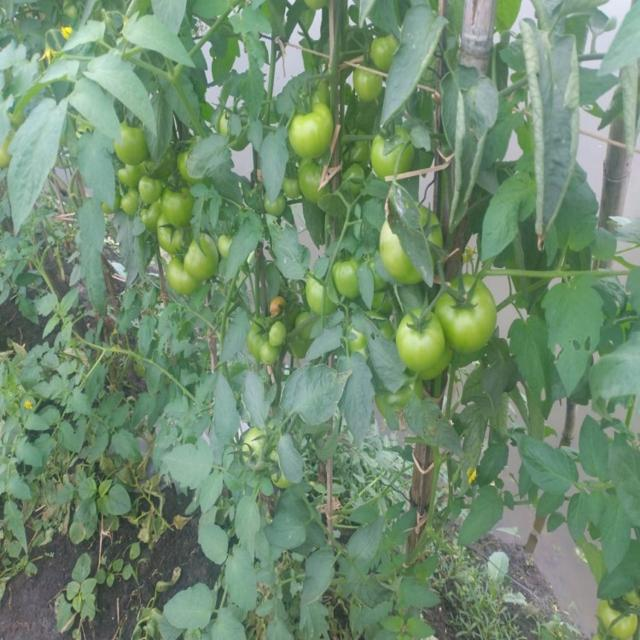tomato: (441, 271, 498, 353), (390, 309, 458, 377), (380, 211, 416, 288), (291, 97, 335, 153), (118, 116, 158, 162), (372, 127, 412, 171), (186, 235, 220, 282), (352, 58, 383, 108), (160, 185, 197, 220), (334, 256, 363, 295), (368, 36, 401, 70), (252, 319, 275, 365), (170, 255, 196, 293), (160, 215, 187, 251), (305, 275, 328, 314), (139, 169, 164, 200), (266, 195, 293, 222), (112, 164, 145, 185), (301, 164, 319, 202), (270, 326, 291, 349), (122, 195, 140, 214), (287, 176, 298, 206)
